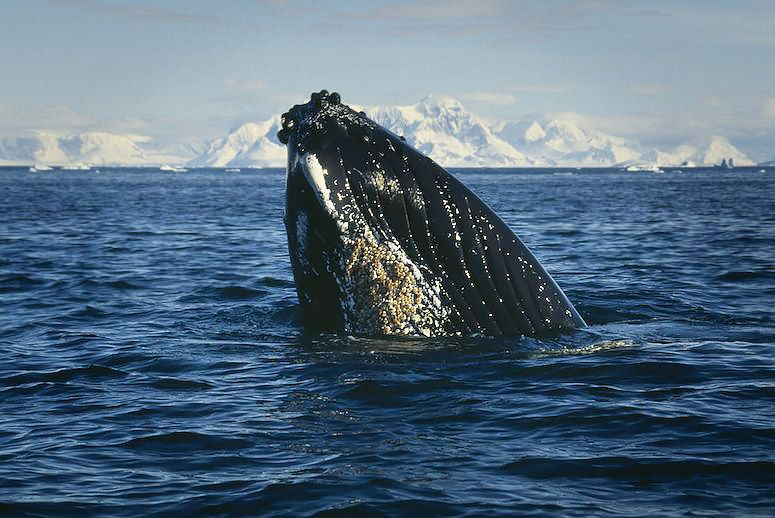humpback: (270, 86, 591, 334)
